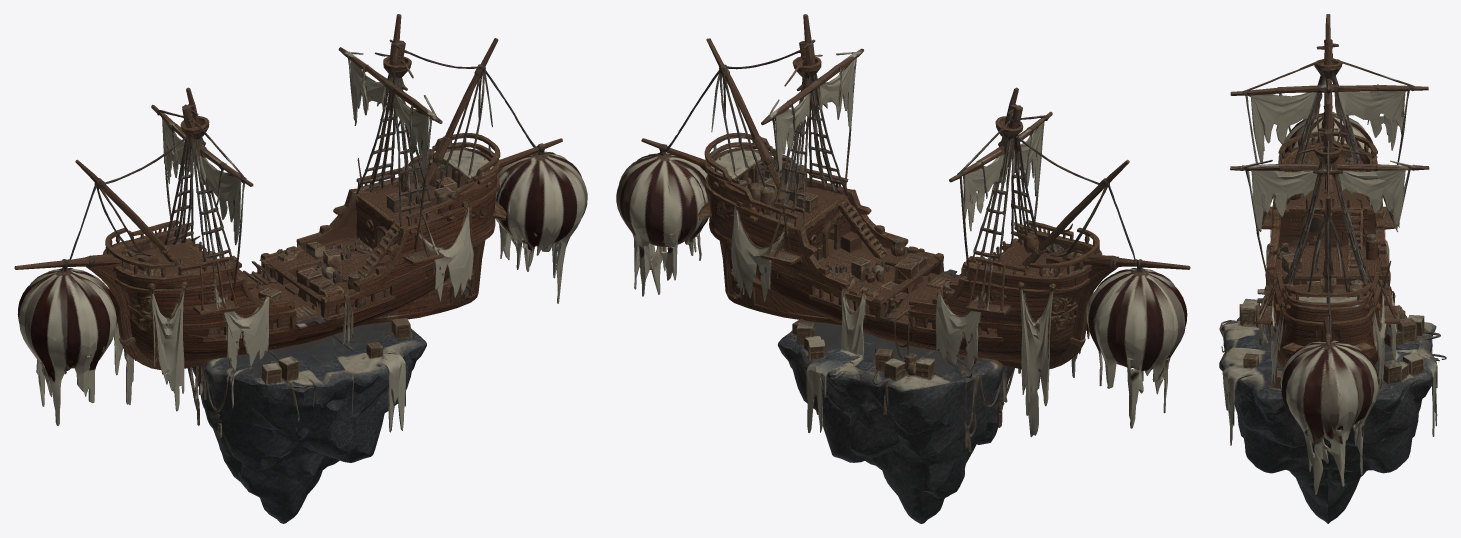
3 views of the same model, side by side, from view 1: azimuth 30°, elevation 25°; view 2: azimuth 150°, elevation 25°; view 3: azimuth 270°, elevation 25° (orthographic).
Parts seen in each view (by area): view 1: Mesh_0; view 2: Mesh_0; view 3: Mesh_0.
Part boxes in pixels (bbox=[...]): Mesh_0: bbox=[14, 14, 587, 523]; Mesh_0: bbox=[616, 14, 1190, 523]; Mesh_0: bbox=[1219, 14, 1446, 523].
Size of the model in its own units: 1.9 by 1.54 by 0.6692.
Materials: 1 (1 with a texture image).
